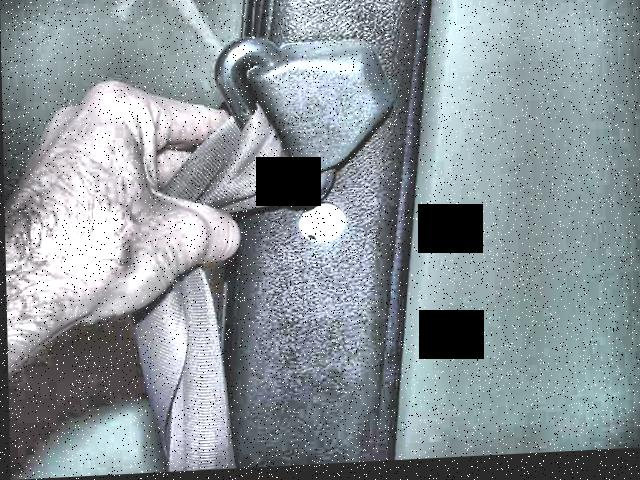seatbelt: (99, 66, 427, 438)
